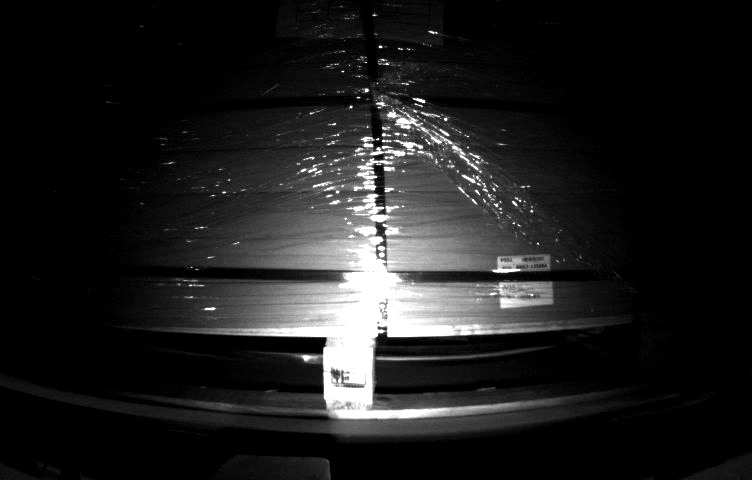True Barcode: (497, 255, 555, 306)
